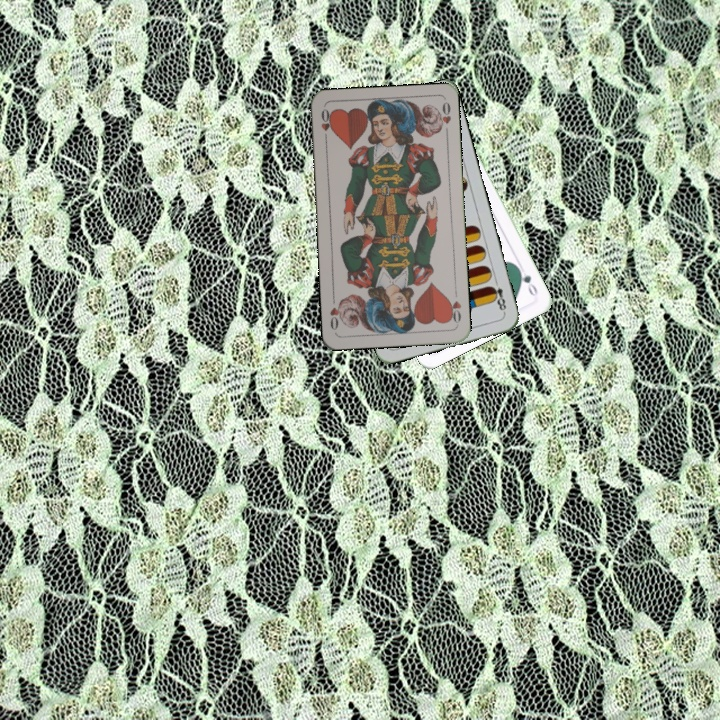E8: (486, 276, 509, 316)
GO: (513, 263, 540, 299)
HO: (445, 286, 464, 326), (317, 104, 334, 145)
